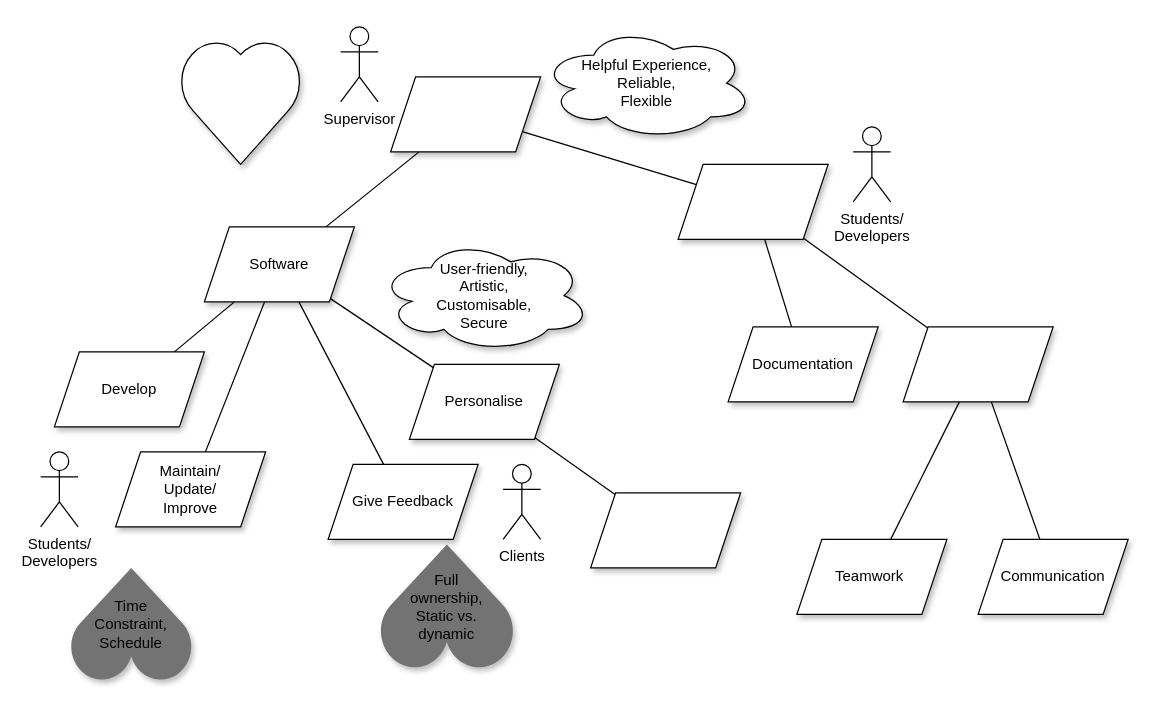
The diagram is 1158 pixels wide and 711 high, and some of its shapes have lost their labels. Here are the shapes that lost their labels. From the top down, the centre of each, then its label:
At (x=241, y=103): "Proud, Happy, Inspired".
At (x=466, y=116): "COMP30022 Project".
At (x=754, y=203): "Learn".
At (x=979, y=366): "Develop Skills".
At (x=666, y=532): "Showcase Work".
